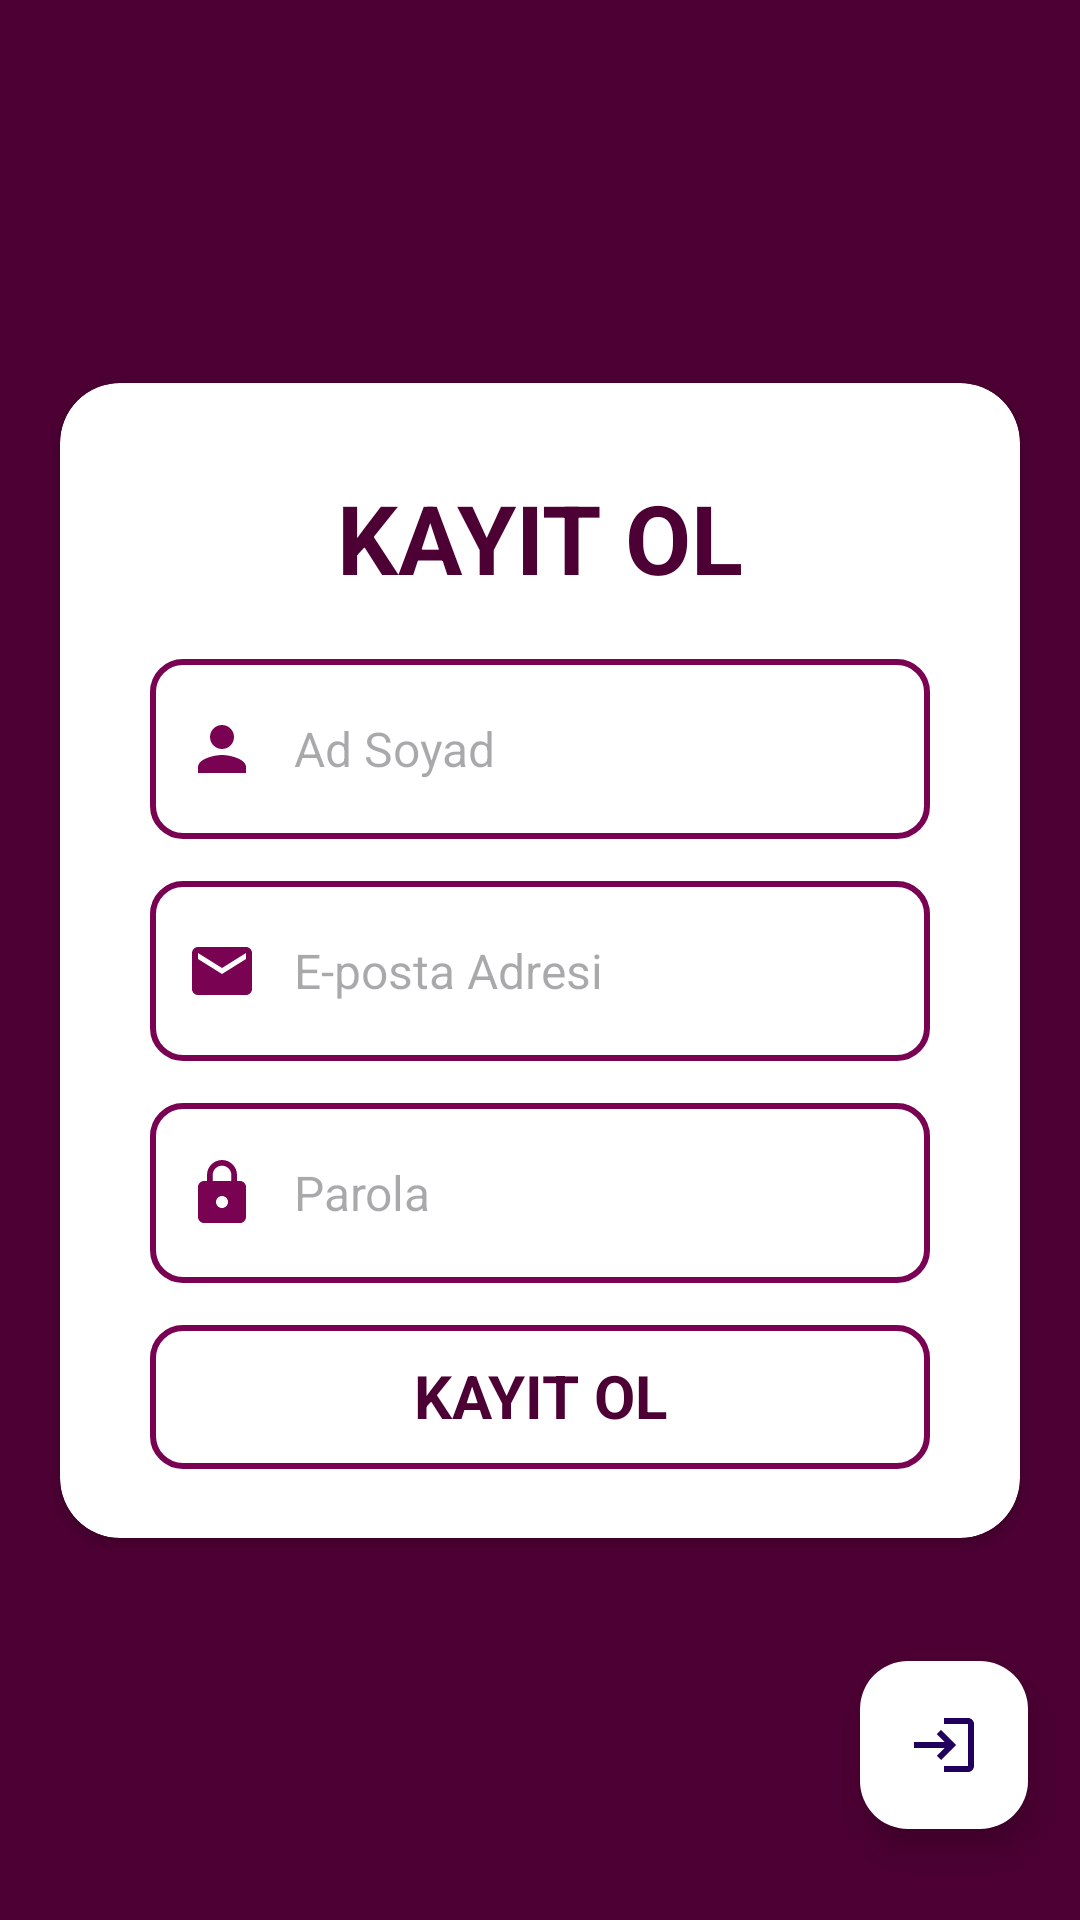

Point at icon controls on the screen. Image size 1080x1920, points as [x,y].
login: [944,1745]
